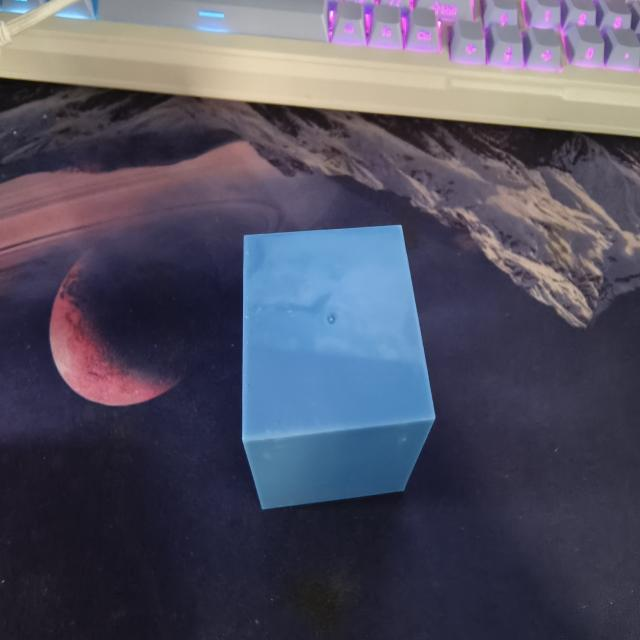blue: (235, 228, 440, 514)
